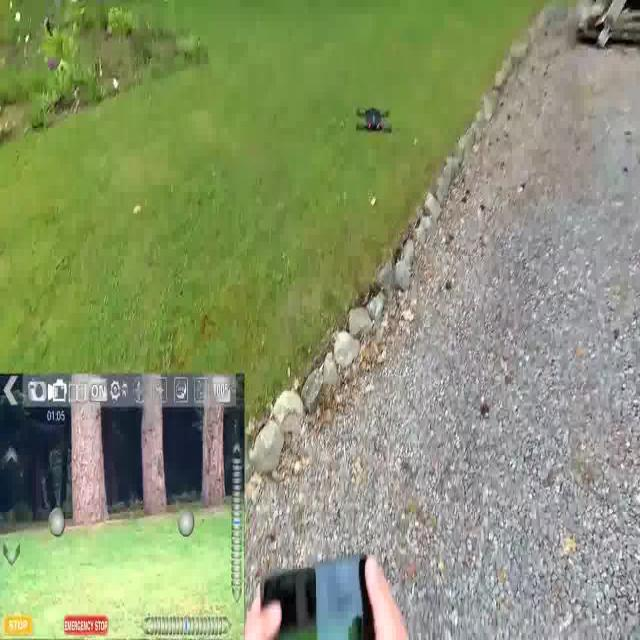drone: (354, 99, 398, 142)
